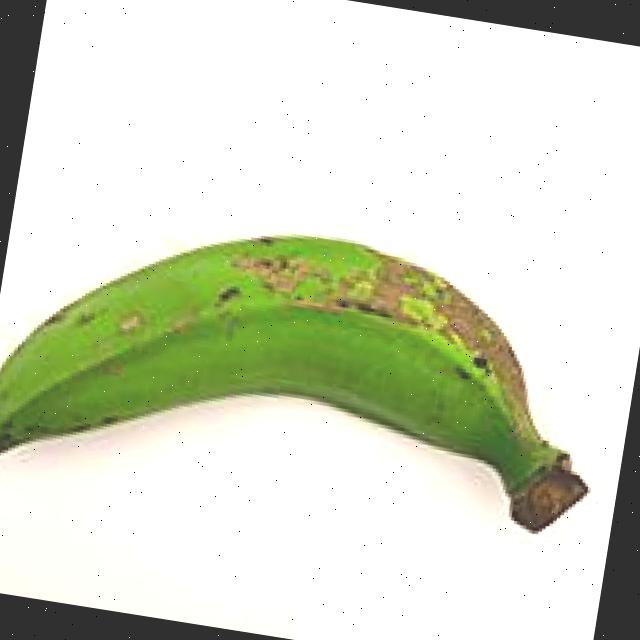Raw: (0, 148, 640, 626)
